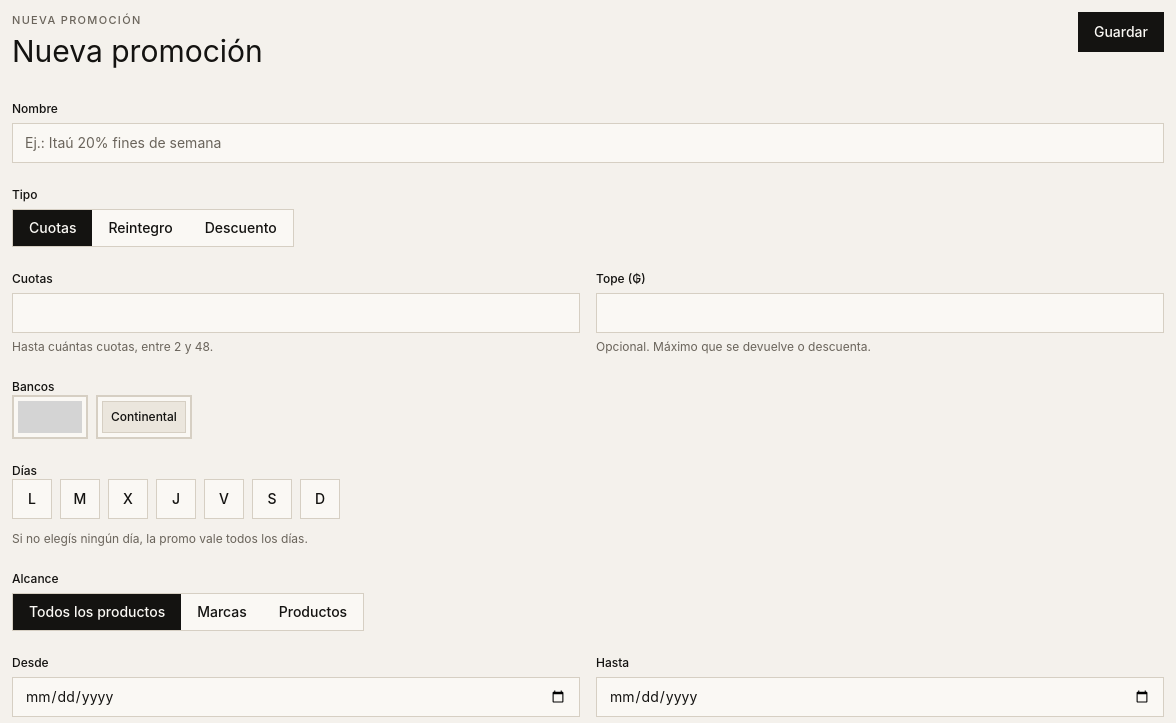
Test case: BankPromoForm › shows the name error under the field
What coordinates should you click on to do the following:
click the button "Guardar"
I would click on:
 (1121, 32)
Its box is [1078, 12, 1164, 52].
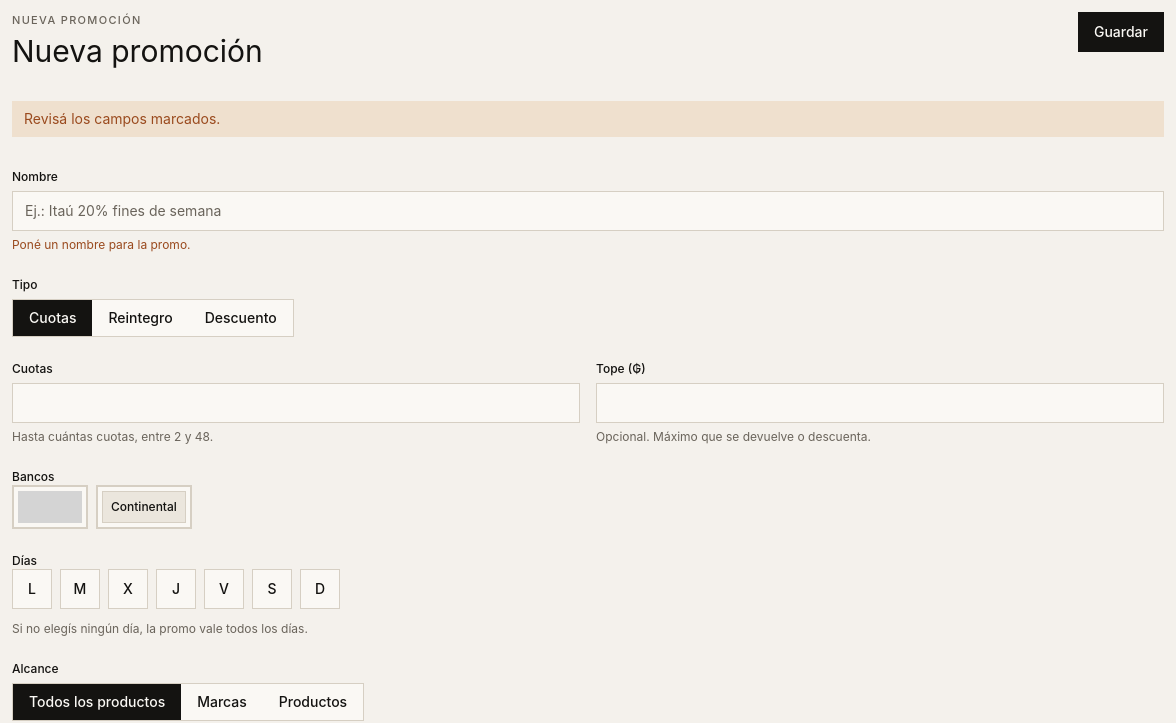
Now the text "Poné un nombre para la promo." is shown, box [12, 236, 190, 252]
